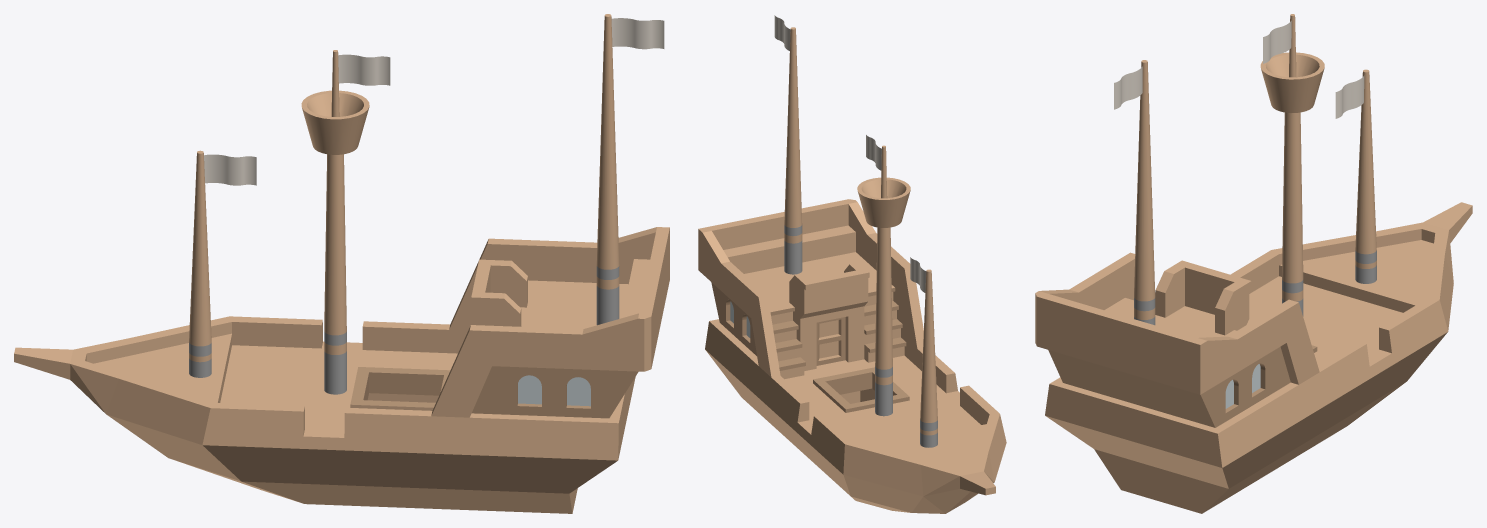
The model's file is Ship.glb.
The picture shows the model from 3 angles, left to right: view 1: azimuth 30°, elevation 25°; view 2: azimuth 150°, elevation 25°; view 3: azimuth 270°, elevation 25°; orthographic projection. The views are drawn at different scales.
Parts seen in each view (by area): view 1: ship_light_8angles; view 2: ship_light_8angles; view 3: ship_light_8angles.
Part boxes in pixels (box(x1,y1,x2,y2)): ship_light_8angles: box(14, 14, 669, 513); ship_light_8angles: box(698, 15, 1006, 513); ship_light_8angles: box(1035, 14, 1472, 513).
Size of the model in its own units: 14.84 by 13.09 by 11.51.
